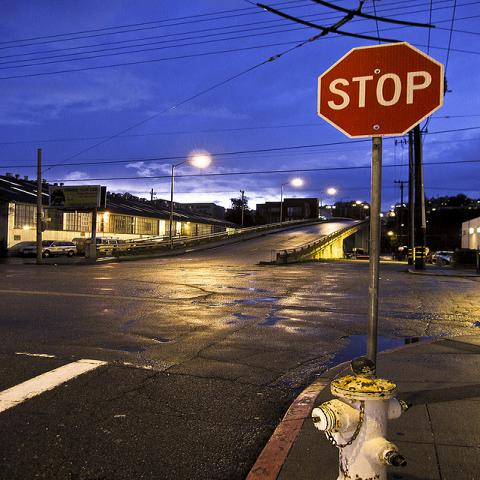car: (19, 240, 78, 258), (432, 250, 454, 266)
